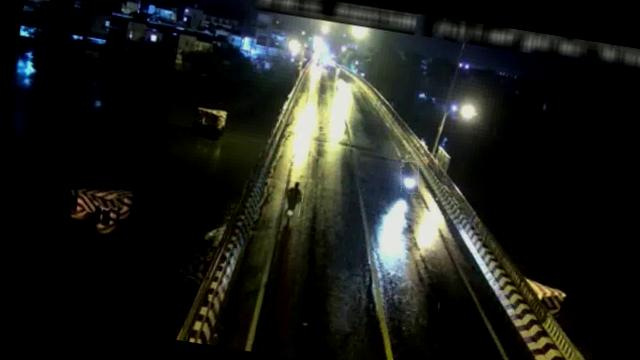Bike: (280, 179, 305, 221), (397, 160, 422, 194)
